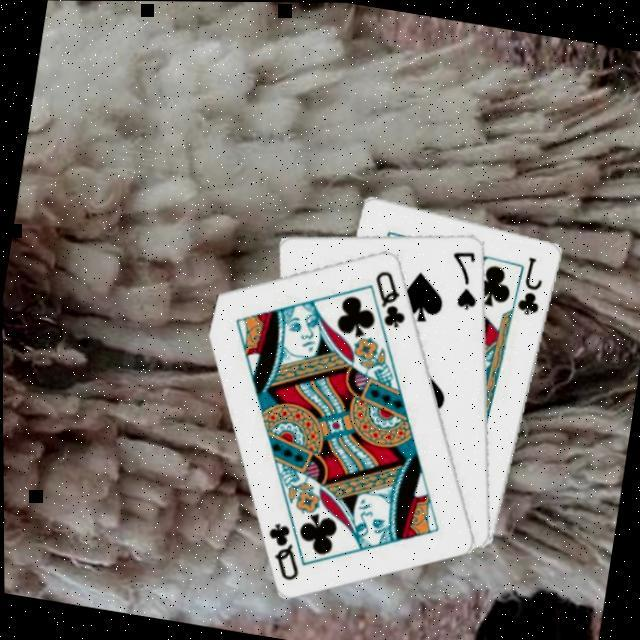7S: (440, 242, 486, 312)
JC: (510, 250, 548, 318)
QC: (256, 516, 307, 584), (362, 264, 413, 330)
